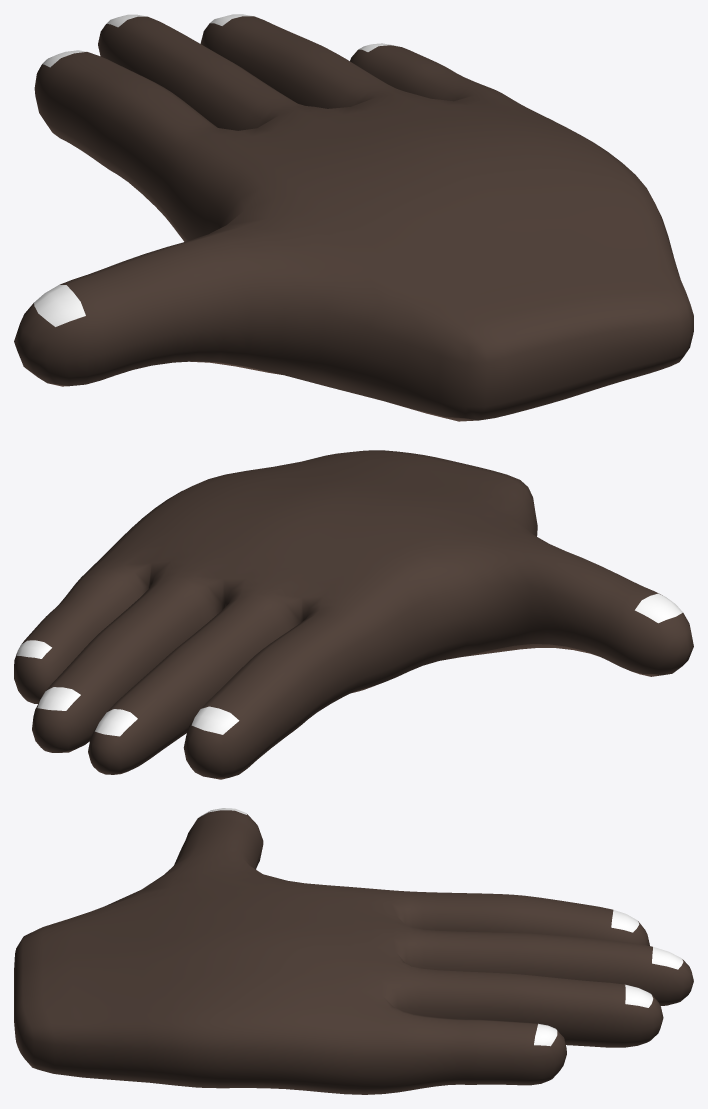
File: lowPolyHandwPalm.glb
3 views of the same model, one above another, from view 1: azimuth 30°, elevation 25°; view 2: azimuth 150°, elevation 25°; view 3: azimuth 270°, elevation 25° (orthographic). The views are drawn at different scales.
Parts seen in each view (by area): view 1: Cube; view 2: Cube; view 3: Cube.
Boxes of the visible parts, bbox=[...] form: Cube: bbox=[14, 14, 693, 421]; Cube: bbox=[14, 450, 693, 779]; Cube: bbox=[14, 808, 693, 1094].
Bounding box in the file's own units: 0.6271 × 0.1441 × 0.7724.
